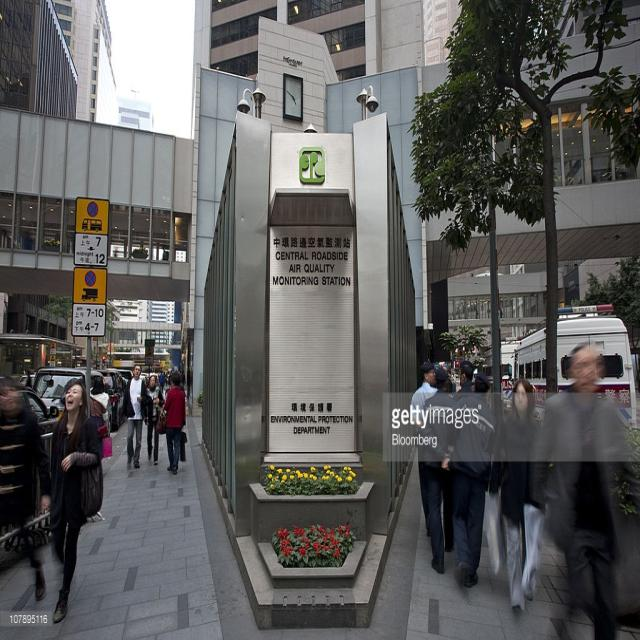body: (528, 342, 640, 639), (484, 377, 547, 619), (46, 373, 106, 627), (0, 375, 51, 604), (445, 370, 498, 588), (422, 367, 461, 576), (409, 361, 443, 538), (154, 370, 188, 476), (119, 362, 149, 468), (142, 373, 166, 466), (89, 374, 110, 426), (453, 359, 476, 401), (158, 370, 166, 394), (165, 368, 171, 390), (180, 369, 186, 386)
